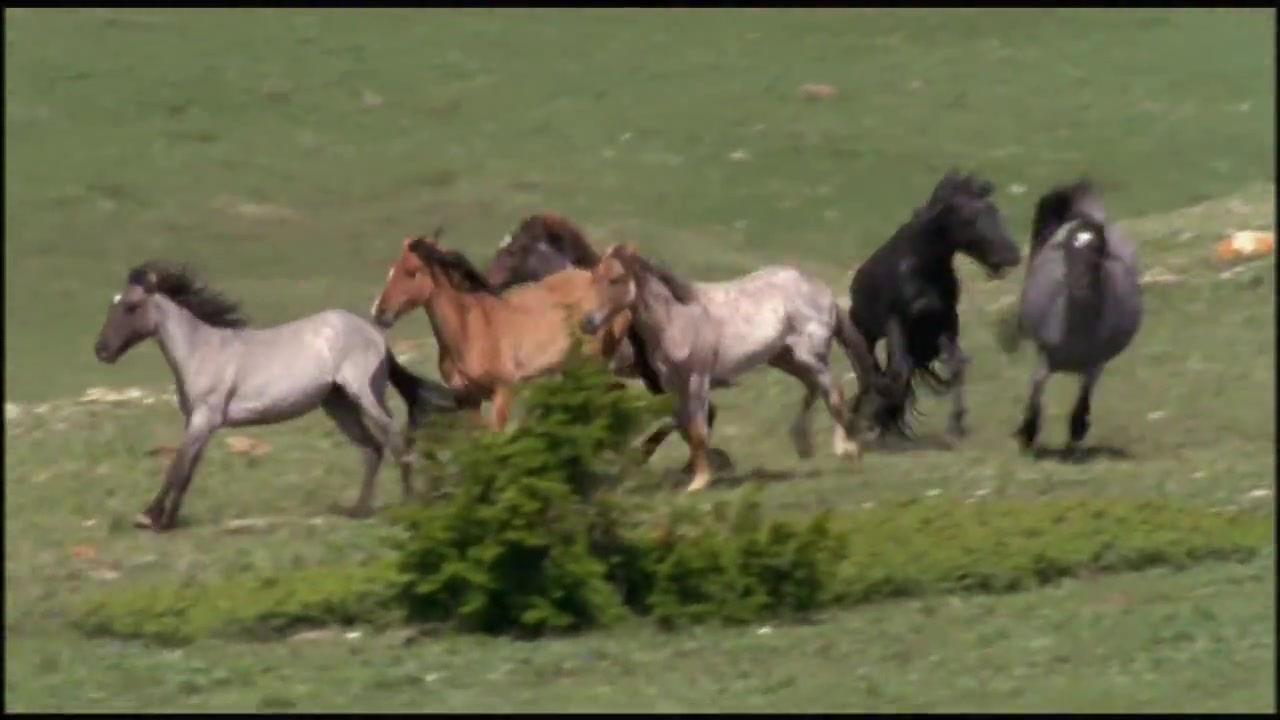horse: (94, 262, 476, 531)
